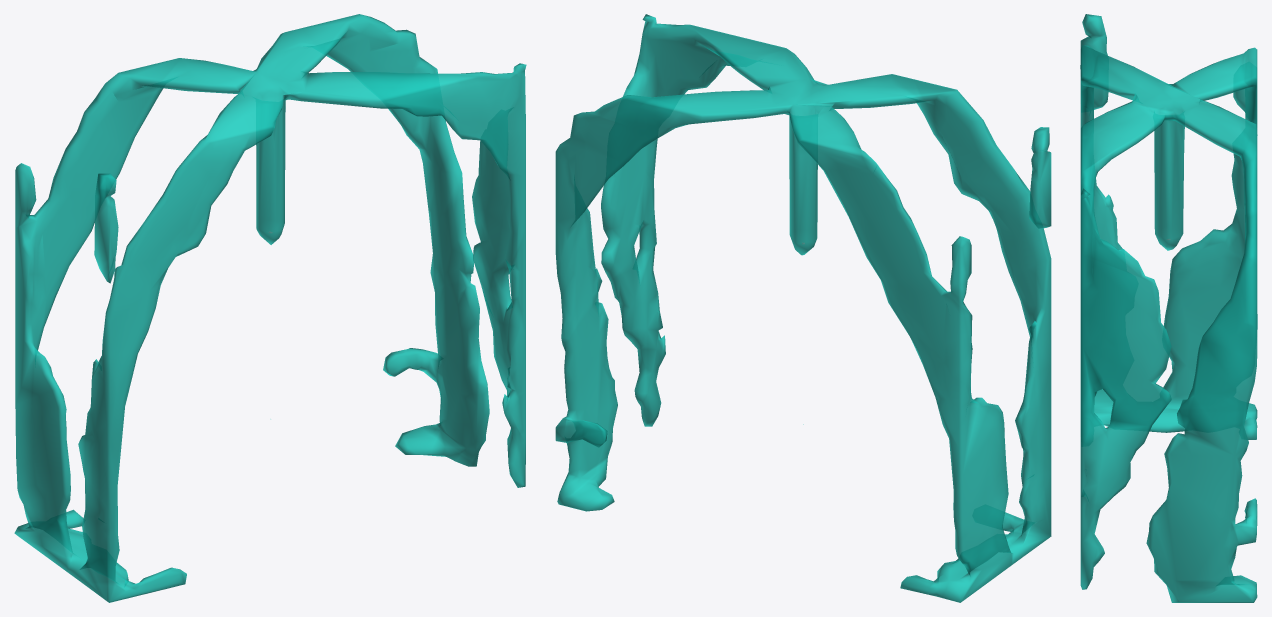
The picture shows the model from 3 angles, left to right: view 1: azimuth 30°, elevation 25°; view 2: azimuth 150°, elevation 25°; view 3: azimuth 270°, elevation 25°; orthographic projection. The views are drawn at different scales.
Visible parts, largest first — view 1: Liquid_Domain; view 2: Liquid_Domain; view 3: Liquid_Domain.
Part boxes in pixels (bbox=[...]): Liquid_Domain: bbox=[14, 14, 526, 602]; Liquid_Domain: bbox=[555, 14, 1051, 602]; Liquid_Domain: bbox=[1080, 14, 1257, 602].
Bounding box in the file's own units: 885 × 884 × 344.
